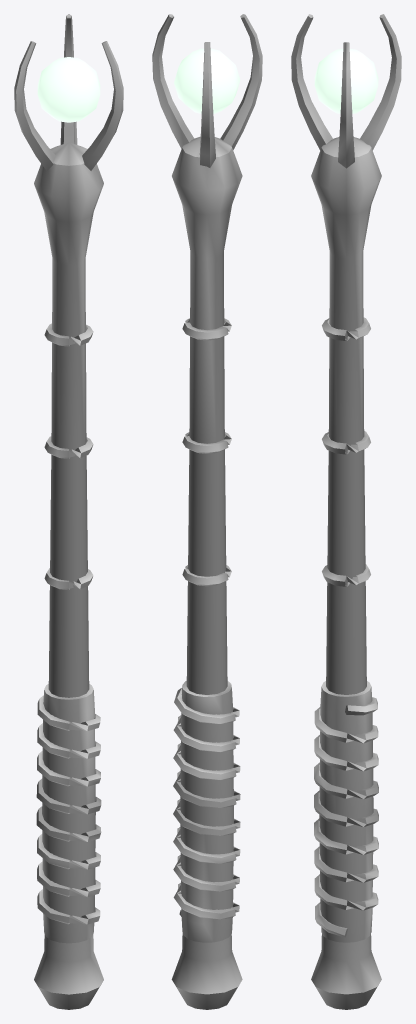
File: bone_wand.glb
The picture shows the model from 3 angles, left to right: view 1: azimuth 90°, elevation 25°; view 2: azimuth 150°, elevation 25°; view 3: azimuth 270°, elevation 25°; orthographic projection.
Visible parts, largest first — view 1: bone_wand; view 2: bone_wand; view 3: bone_wand.
Boxes of the visible parts, box(x1,y1,x2,y2) form: bone_wand: box(14, 14, 123, 1009); bone_wand: box(152, 14, 262, 1009); bone_wand: box(291, 14, 401, 1009).
Size of the model in its own units: 0.0474 by 0.5206 by 0.0531.
